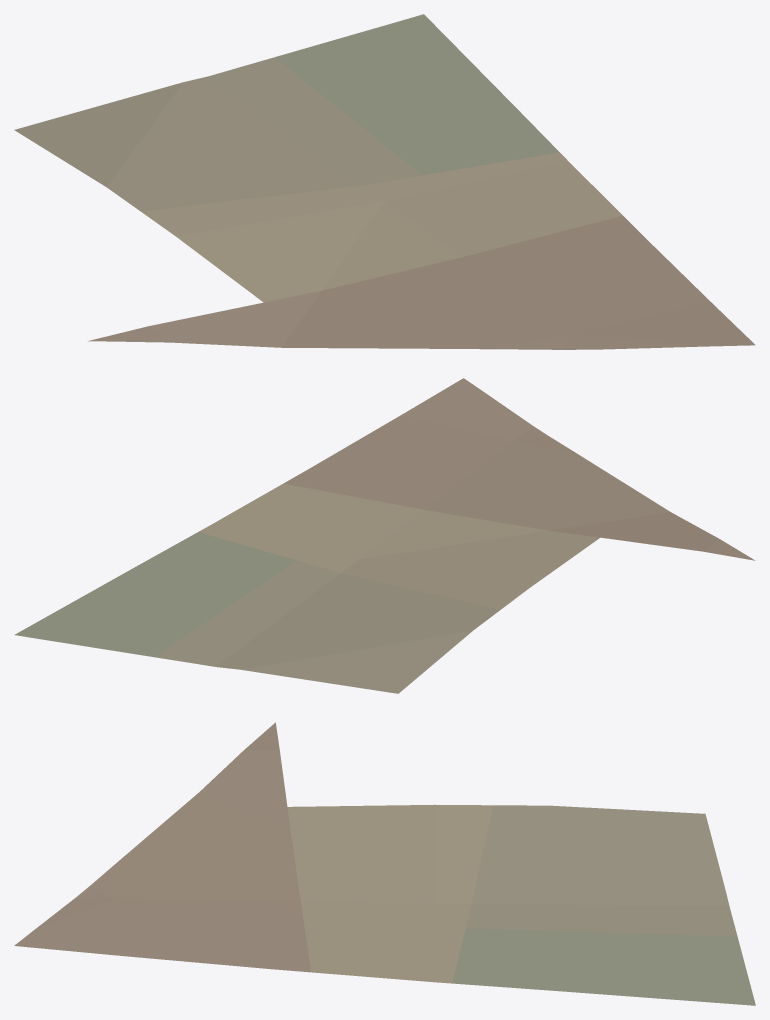
File: farm_-5_10_soil.glb
3 renders of one model, top to bottom at view 1: azimuth 30°, elevation 25°; view 2: azimuth 150°, elevation 25°; view 3: azimuth 270°, elevation 25°, orthographic. The views are drawn at different scales.
Parts seen in each view (by area): view 1: geometry_0; view 2: geometry_0; view 3: geometry_0.
Part boxes in pixels (x1,y1,x2,y2): geometry_0: [14, 14, 755, 349]; geometry_0: [14, 378, 755, 693]; geometry_0: [14, 722, 755, 1005].
Bounding box in the file's own units: 152 × 7.82 × 186.
